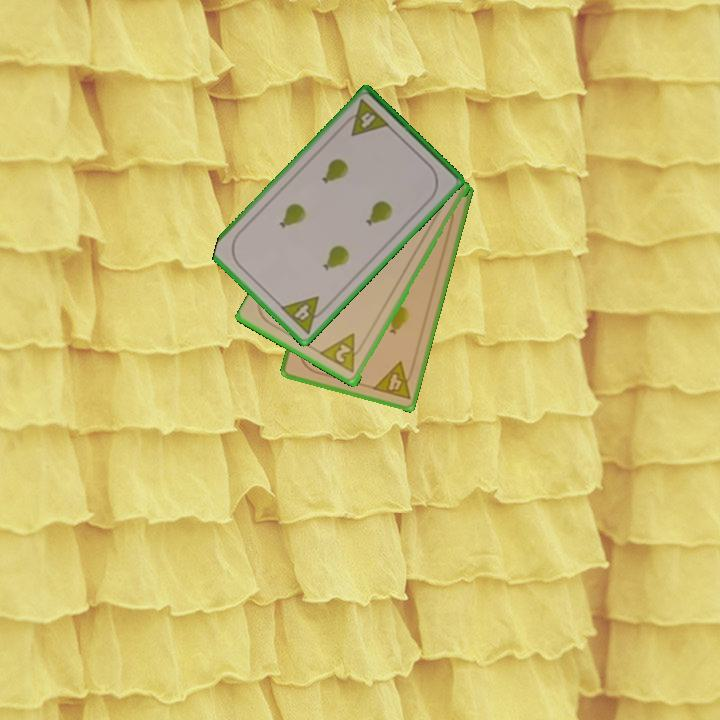2p: (318, 330, 367, 376)
4p: (277, 293, 331, 337), (339, 96, 393, 139), (369, 358, 418, 403)
